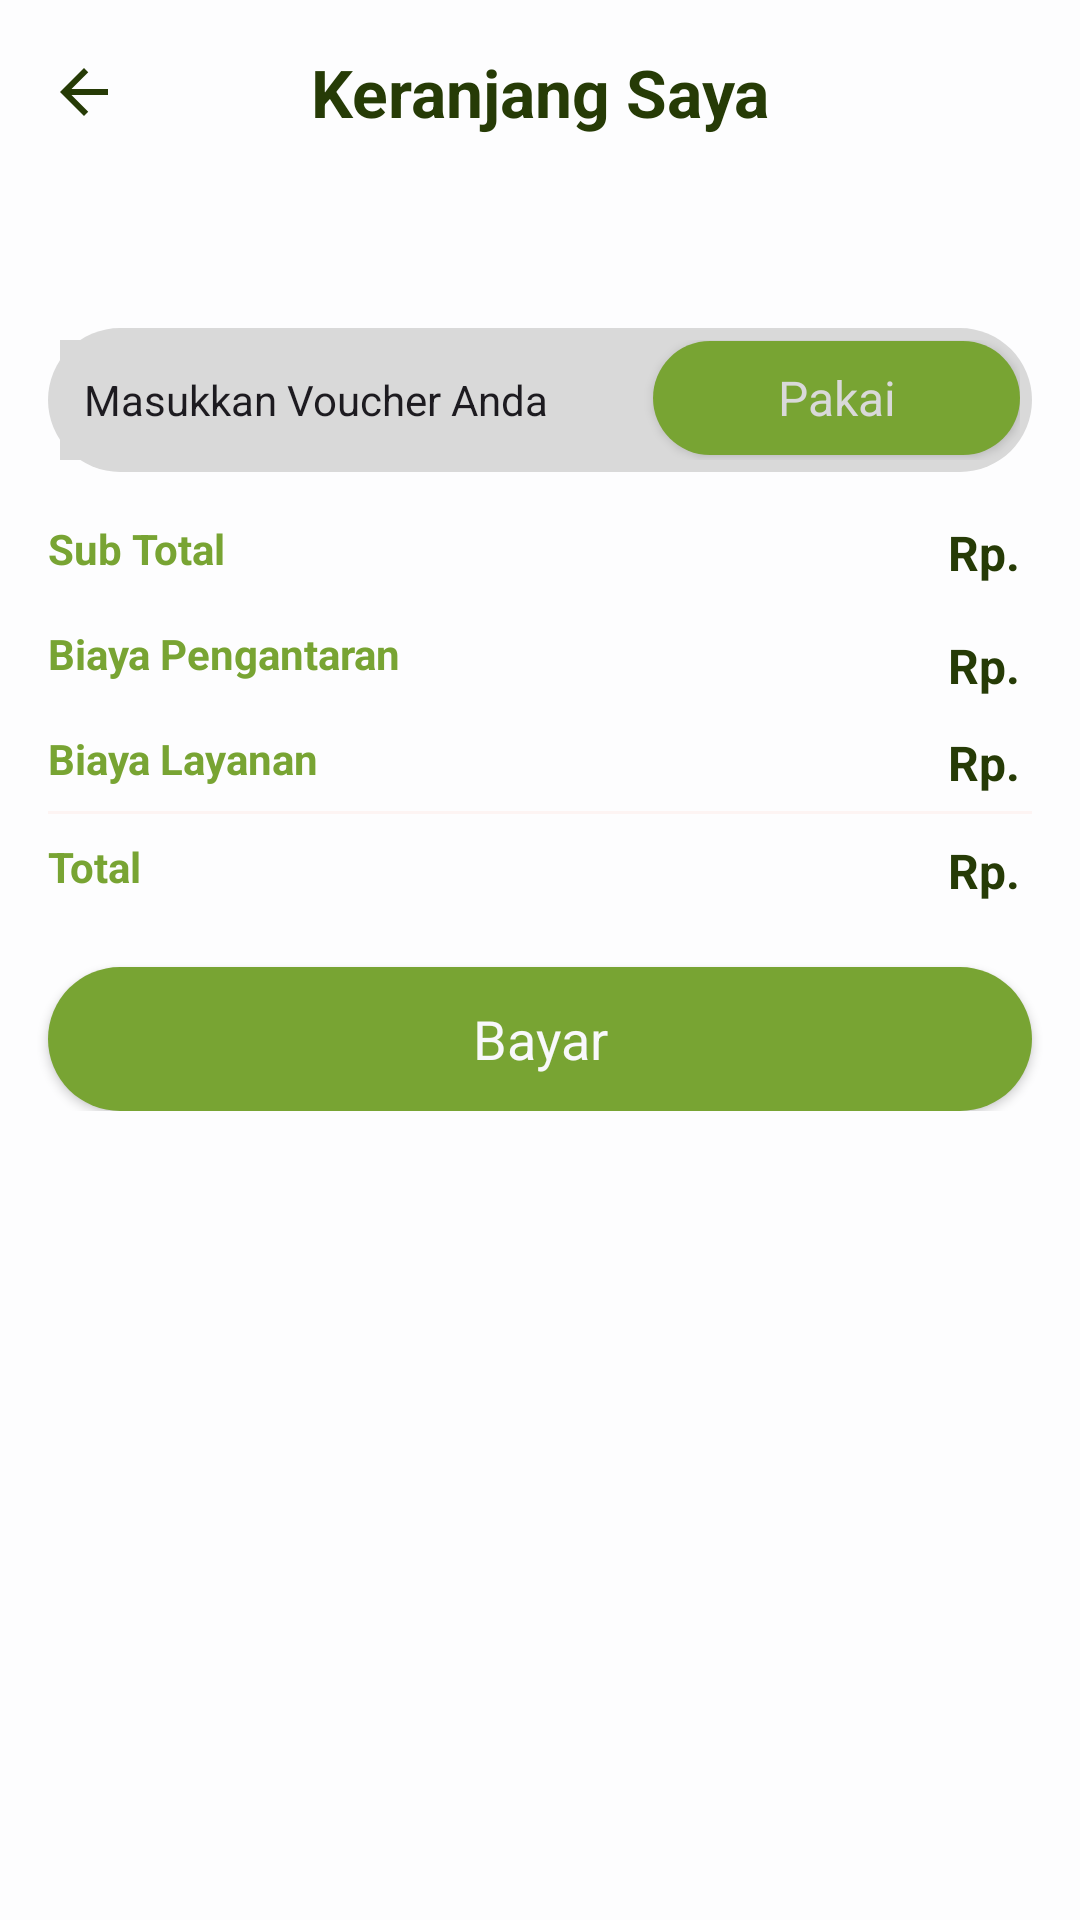

Named icons in this screenshot (1080 x 1920) and their centers, [x,y]:
back: [84,92]
